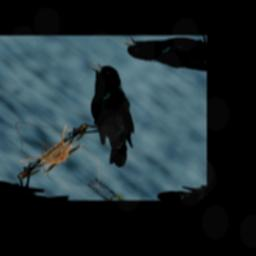Crow: (33, 56, 181, 172)
